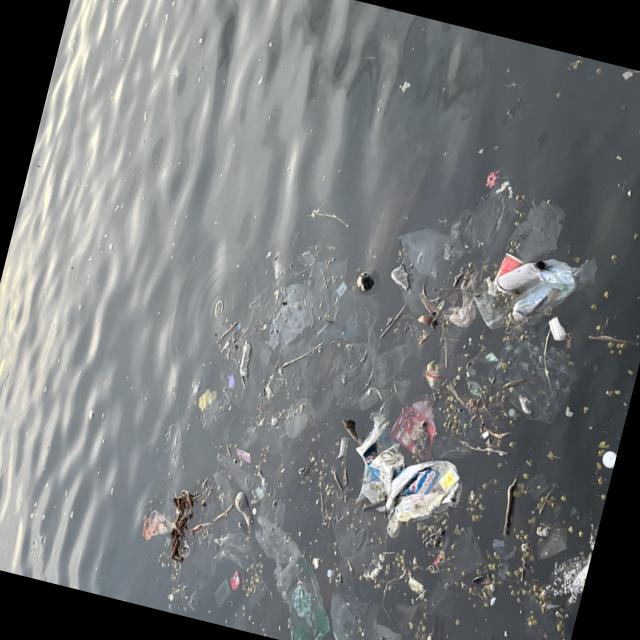plastic bag: (547, 315, 568, 344)
plastic bottle: (494, 252, 546, 301)
